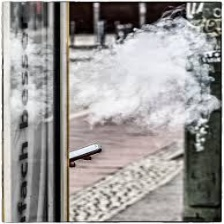smoke: (87, 35, 214, 117)
